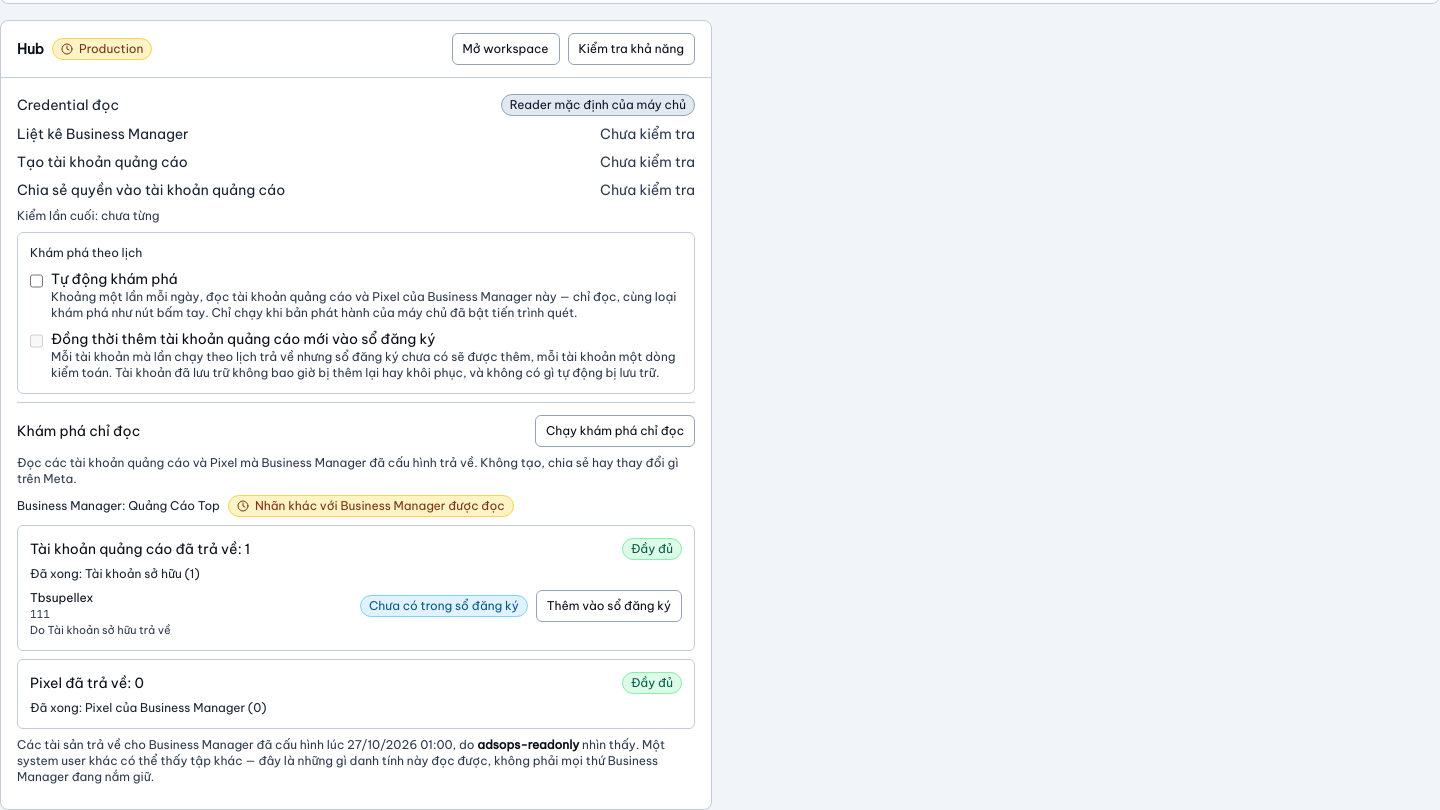
it: Meta connections page: writes › keeps the dialog open and explains a refusal of the import
(page scrolled)
Step 1. Click the button "Thêm vào sổ đăng ký" → click(609, 606), box [536,590,682,622]
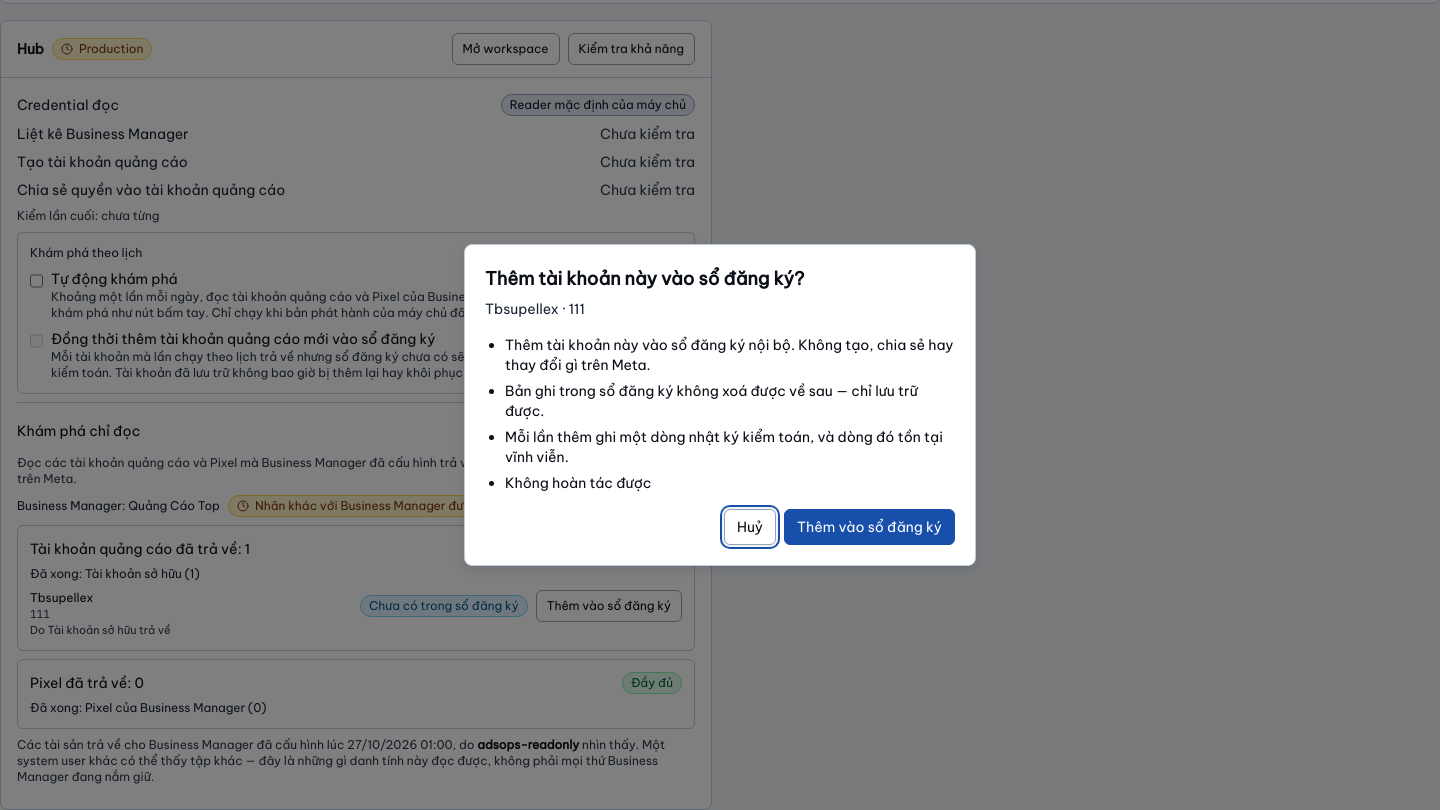
Step 2. Click the button "Thêm vào sổ đăng ký" → click(870, 527), box [784,509,955,545]
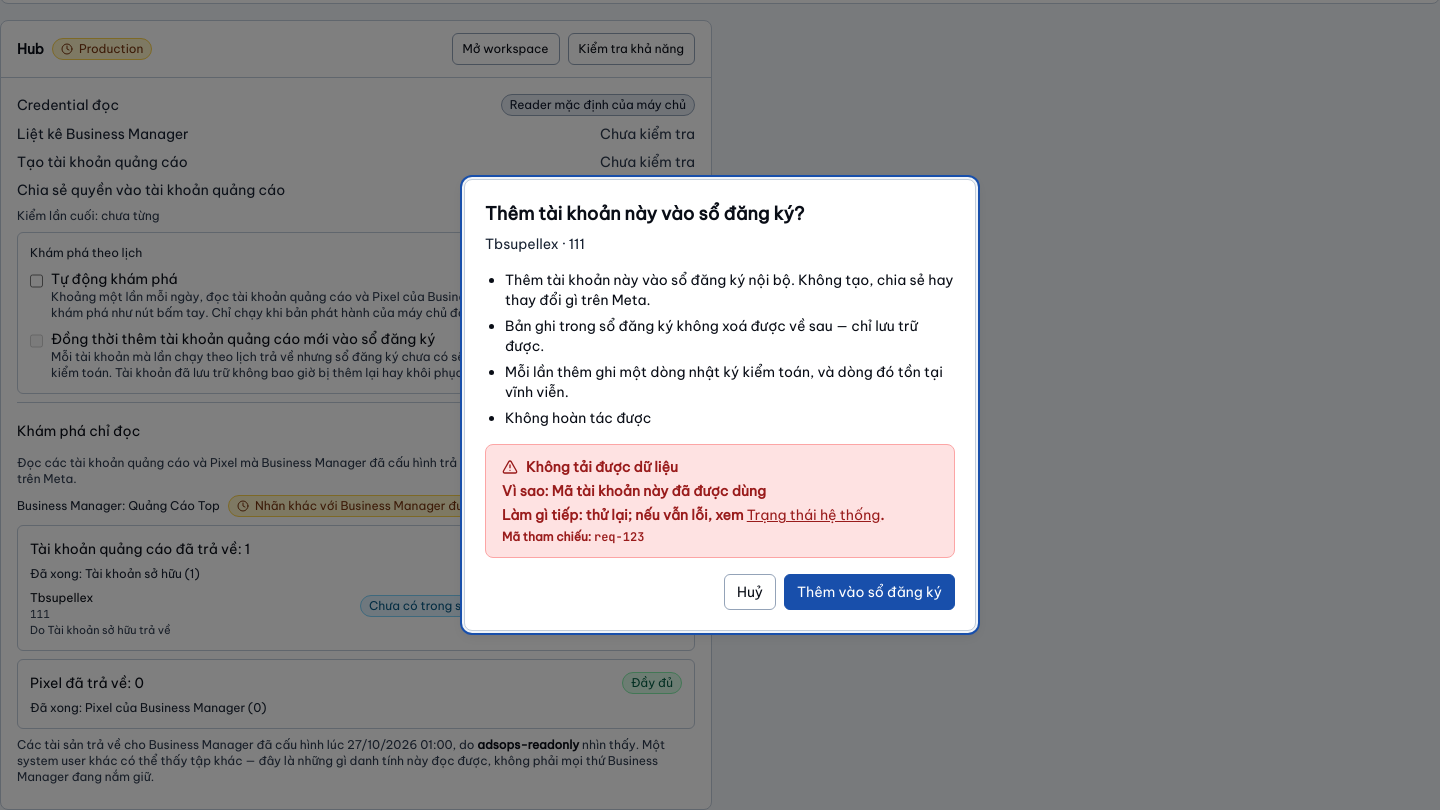
Expected: the dialog is shown, [464,179,976,631]
Expected: the text "Vì sao: Mã tài khoản này đã được dùng" is shown, [502,482,766,500]
